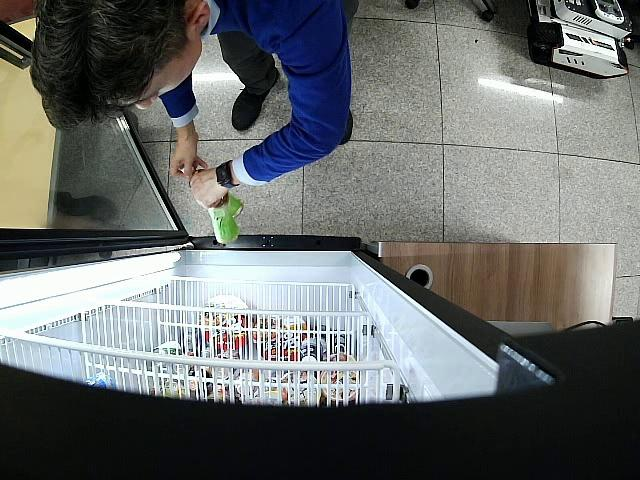00_hand: (169, 128, 208, 178), (191, 169, 221, 209)
19_17cha: (181, 162, 243, 218), (208, 192, 240, 243)
